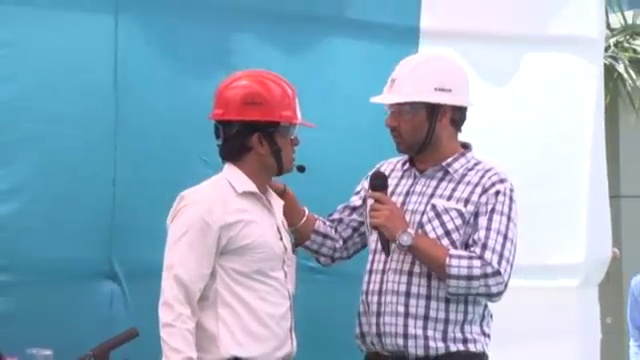helmet: (206, 67, 318, 130), (368, 50, 474, 111)
helmet_on: (205, 66, 318, 188), (365, 50, 476, 164)
person: (290, 50, 520, 360), (154, 65, 318, 360)
